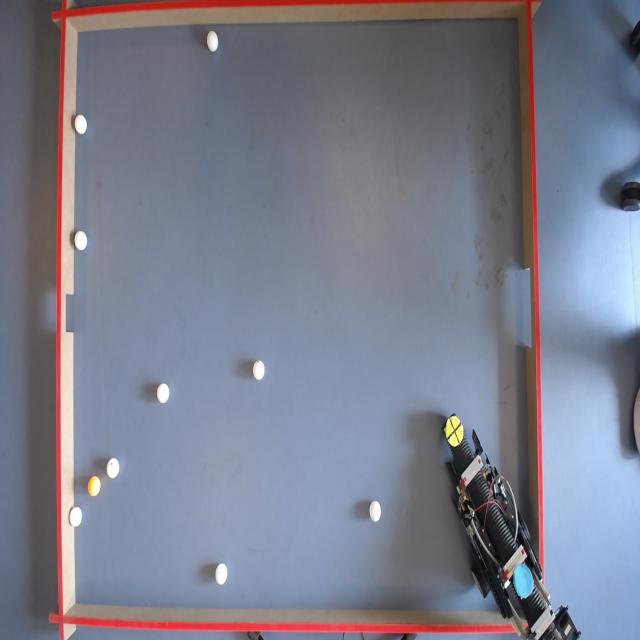orange: (87, 476, 102, 497)
robot: (441, 407, 575, 640)
robot-front: (444, 416, 463, 449)
robot-rear: (514, 561, 536, 600)
white: (368, 500, 382, 522), (215, 563, 228, 586), (158, 383, 172, 404), (252, 360, 266, 381), (75, 114, 88, 136), (106, 458, 119, 480), (207, 31, 220, 52), (69, 506, 82, 527), (74, 233, 88, 252)
